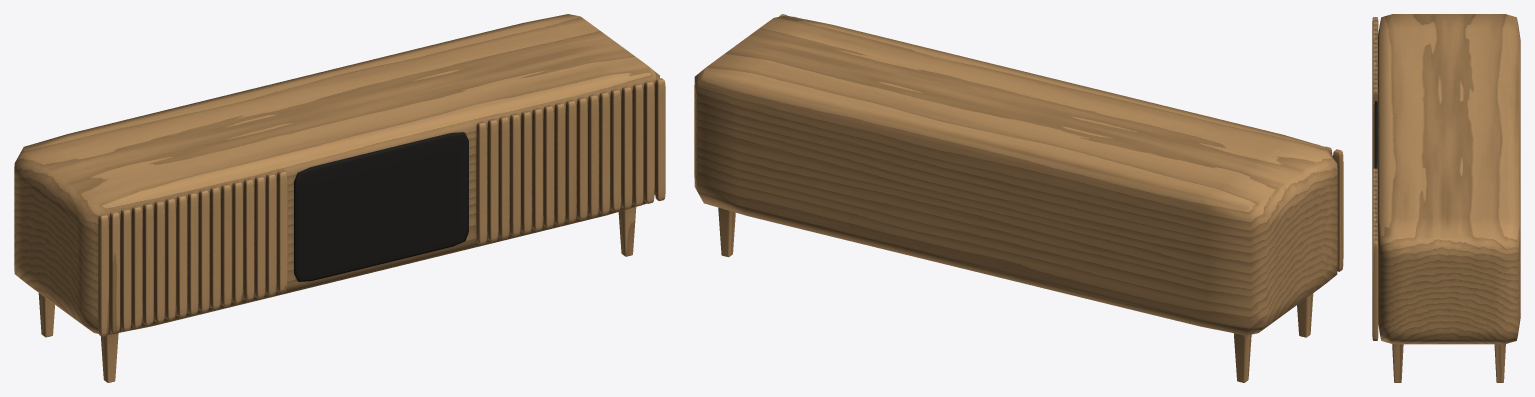
The model's file is oak-slatted.glb.
The picture shows the model from 3 angles, left to right: view 1: azimuth 30°, elevation 25°; view 2: azimuth 150°, elevation 25°; view 3: azimuth 270°, elevation 25°; orthographic projection. The views are drawn at different scales.
Parts seen in each view (by area): view 1: wood_x, wood_v, shelf_inner; view 2: wood_x, wood_v; view 3: wood_x, wood_v, shelf_inner.
Part boxes in pixels (x1,y1,x2,y2): wood_x: (14, 14, 659, 334); wood_v: (38, 78, 665, 382); shelf_inner: (294, 132, 468, 281); wood_x: (694, 15, 1337, 335); wood_v: (718, 14, 1343, 382); wood_x: (1377, 14, 1520, 344); wood_v: (1372, 17, 1505, 382); shelf_inner: (1374, 101, 1377, 168).
Bounding box in the file's own units: 1.6 × 0.5 × 0.435.
3 materials, 2 textured.
